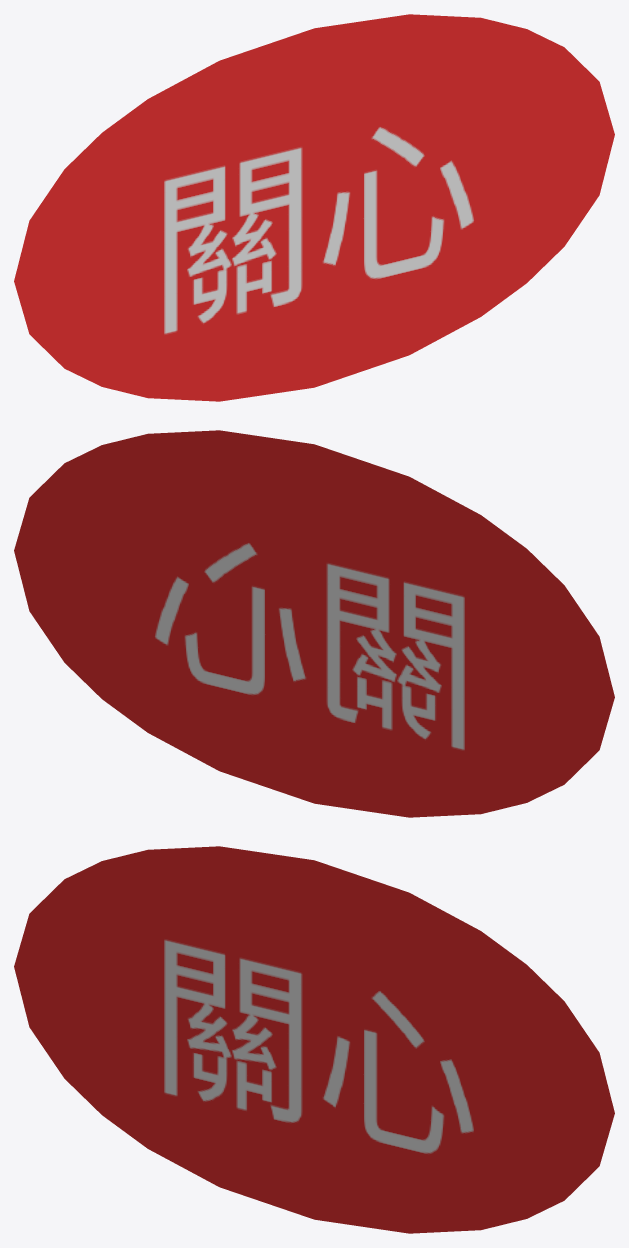
The picture shows the model from 3 angles, top to bottom: view 1: azimuth 30°, elevation 25°; view 2: azimuth 150°, elevation 25°; view 3: azimuth 330°, elevation 25°; orthographic projection.
Visible parts, largest first — view 1: 平面.001; view 2: 平面.001; view 3: 平面.001.
Part boxes in pixels (left/top/right/bottom): 平面.001: left=14, top=14, right=614, bottom=401; 平面.001: left=14, top=430, right=614, bottom=817; 平面.001: left=14, top=846, right=614, bottom=1233.
Bounding box in the file's own units: 9.11 × 5.21 × 1.5e-06.
1 material, 1 textured.
